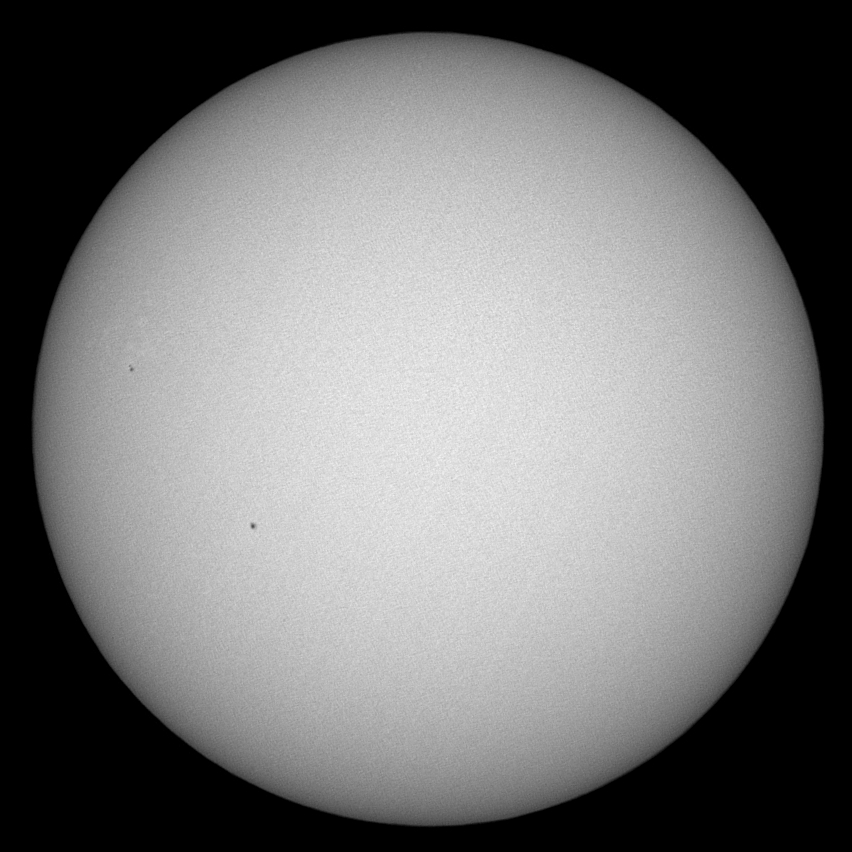sunspot: (247, 519, 259, 532), (126, 363, 136, 372)
